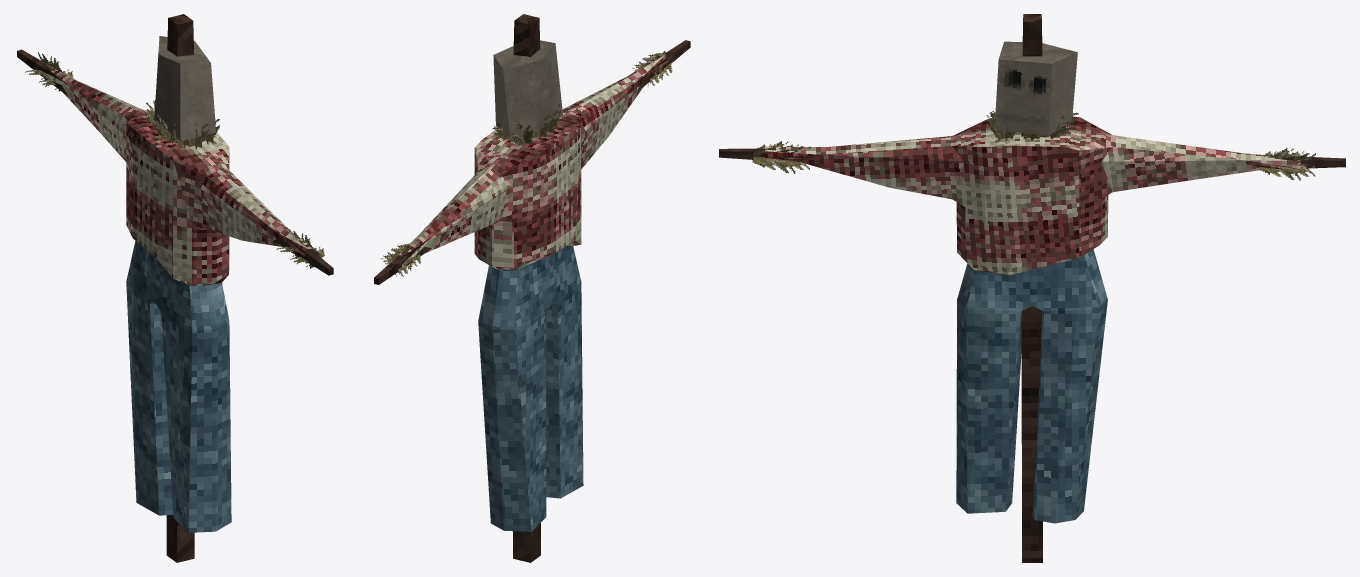
The model's file is Scarecrow.glb.
3 renders of one model, left to right at view 1: azimuth 30°, elevation 25°; view 2: azimuth 150°, elevation 25°; view 3: azimuth 270°, elevation 25°, orthographic.
Parts seen in each view (by area): view 1: Bag; view 2: Bag; view 3: Bag.
Boxes of the visible parts, box(x1,y1,x2,y2) form: Bag: box(17, 14, 333, 562); Bag: box(374, 14, 690, 562); Bag: box(719, 14, 1345, 562).
Bounding box in the file's own units: 0.3965 × 2.87 × 3.01.
Materials: 5 (5 with a texture image).
